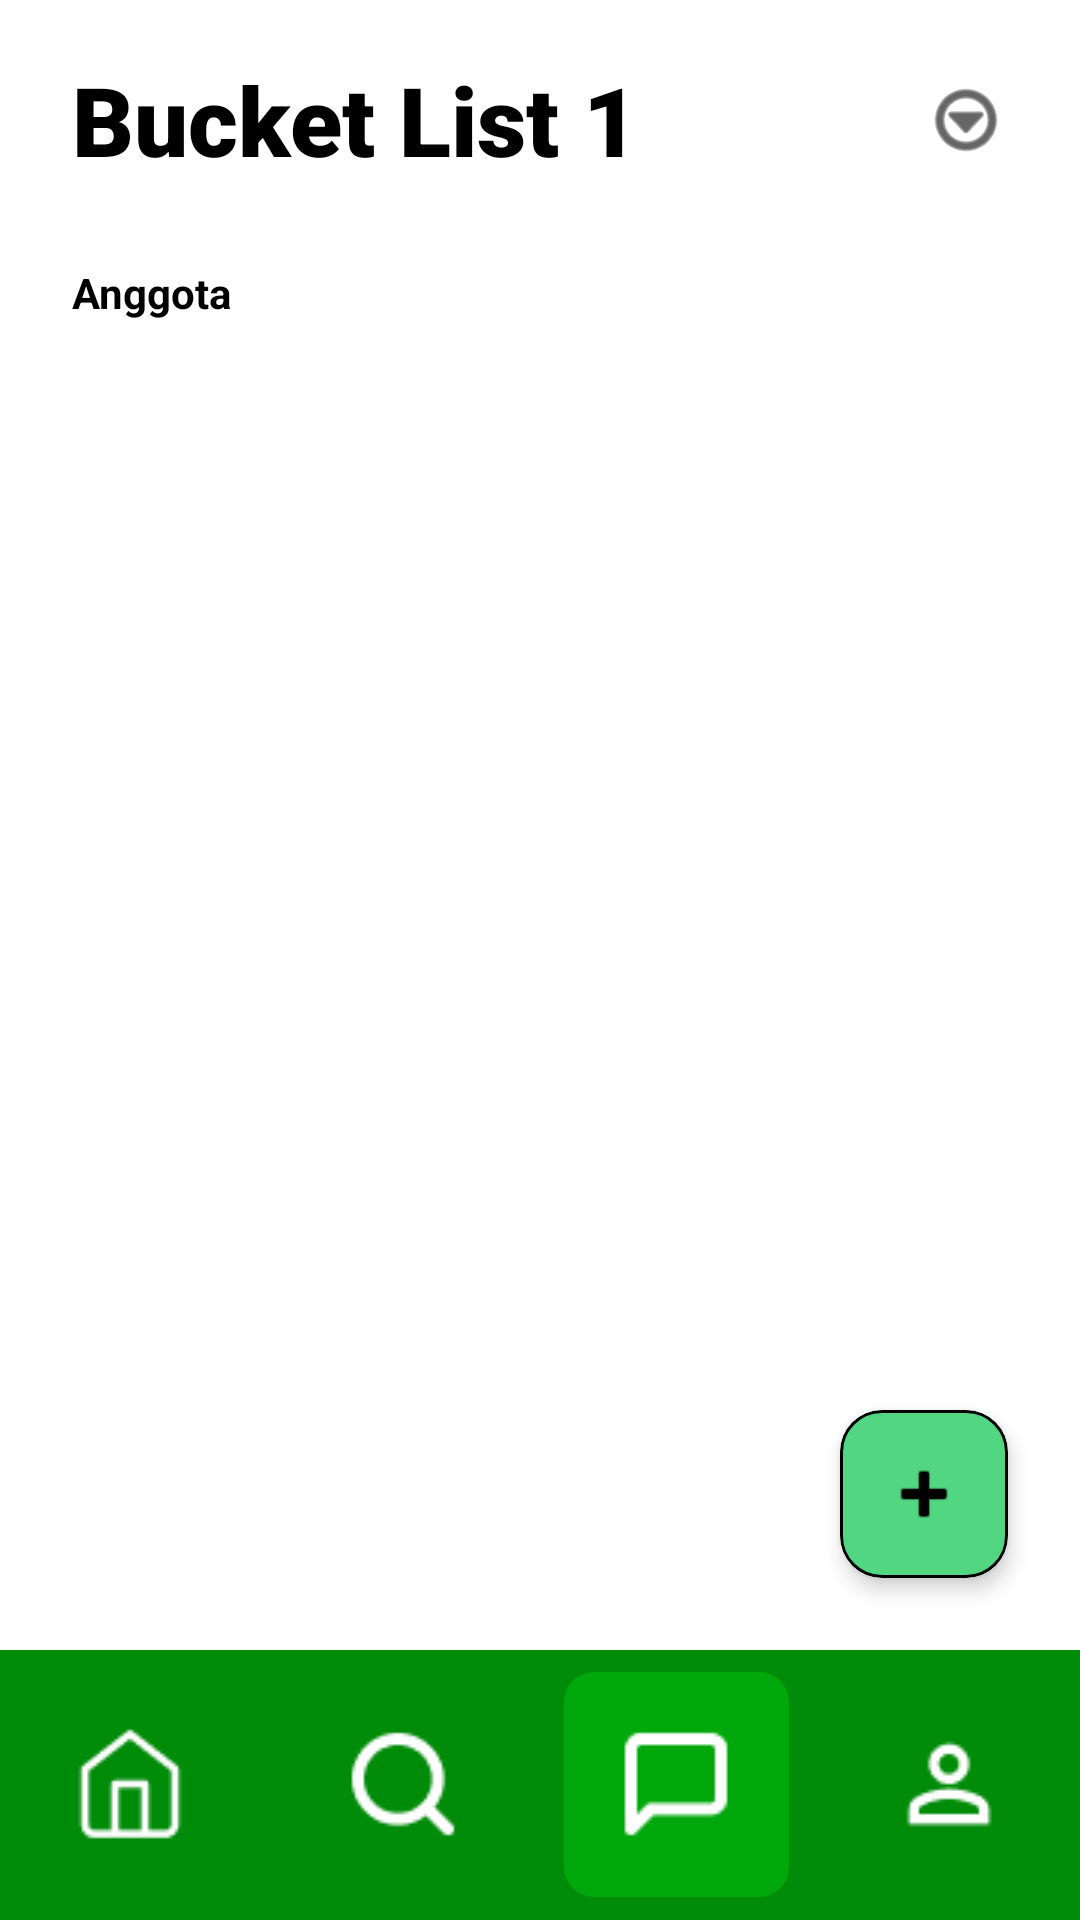

Point at icon controls on the screen. Image size 1080px×1920px, points as [x,y].
add: [924,1494]
home: [130,1784]
message: [676,1784]
more: [966,120]
profile: [949,1784]
search: [403,1784]
